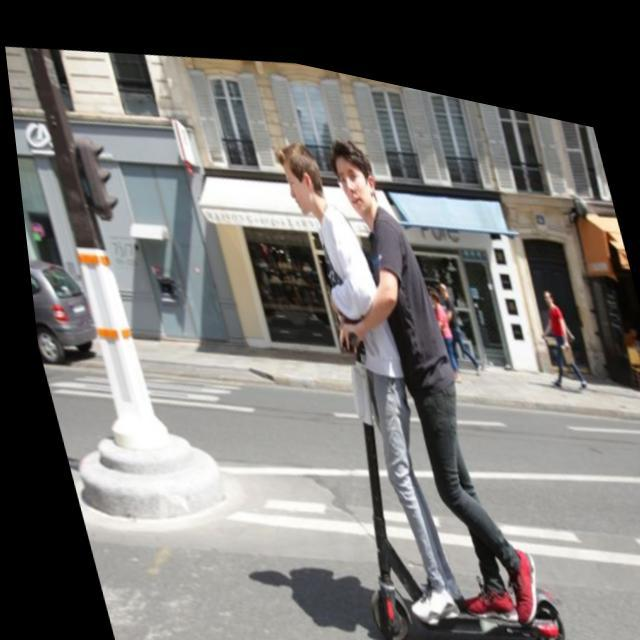Nonhelmet: (267, 130, 321, 214), (337, 136, 390, 212)
